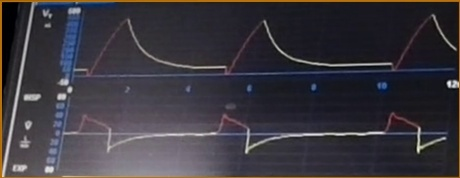Flow: (68, 112, 445, 168)
Leakage Volume: (75, 15, 457, 79)
